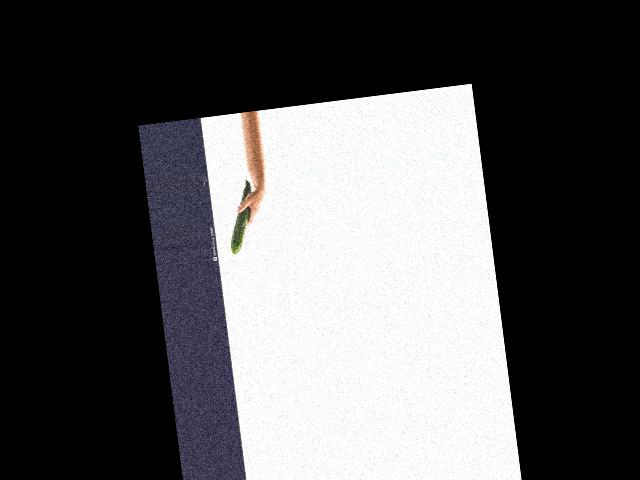cucumber: (222, 178, 259, 254)
